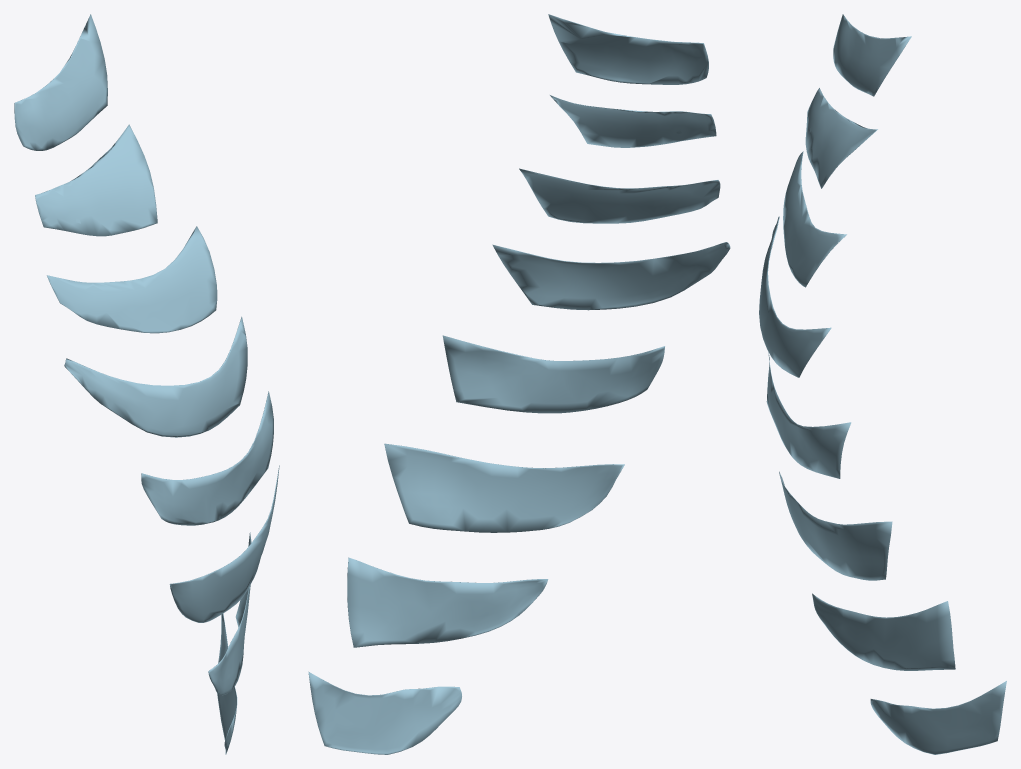
The model's file is articulacoes-external-intercostal-membrane-l.glb.
3 views of the same model, side by side, from view 1: azimuth 30°, elevation 25°; view 2: azimuth 150°, elevation 25°; view 3: azimuth 270°, elevation 25° (orthographic). The views are drawn at different scales.
Parts seen in each view (by area): view 1: External intercostal membrane.l; view 2: External intercostal membrane.l; view 3: External intercostal membrane.l.
Boxes of the visible parts, bbox=[...] form: External intercostal membrane.l: bbox=[14, 14, 279, 754]; External intercostal membrane.l: bbox=[308, 14, 730, 754]; External intercostal membrane.l: bbox=[759, 14, 1006, 754].
Bounding box in the file's own units: 0.1142 × 0.2772 × 0.0948.
